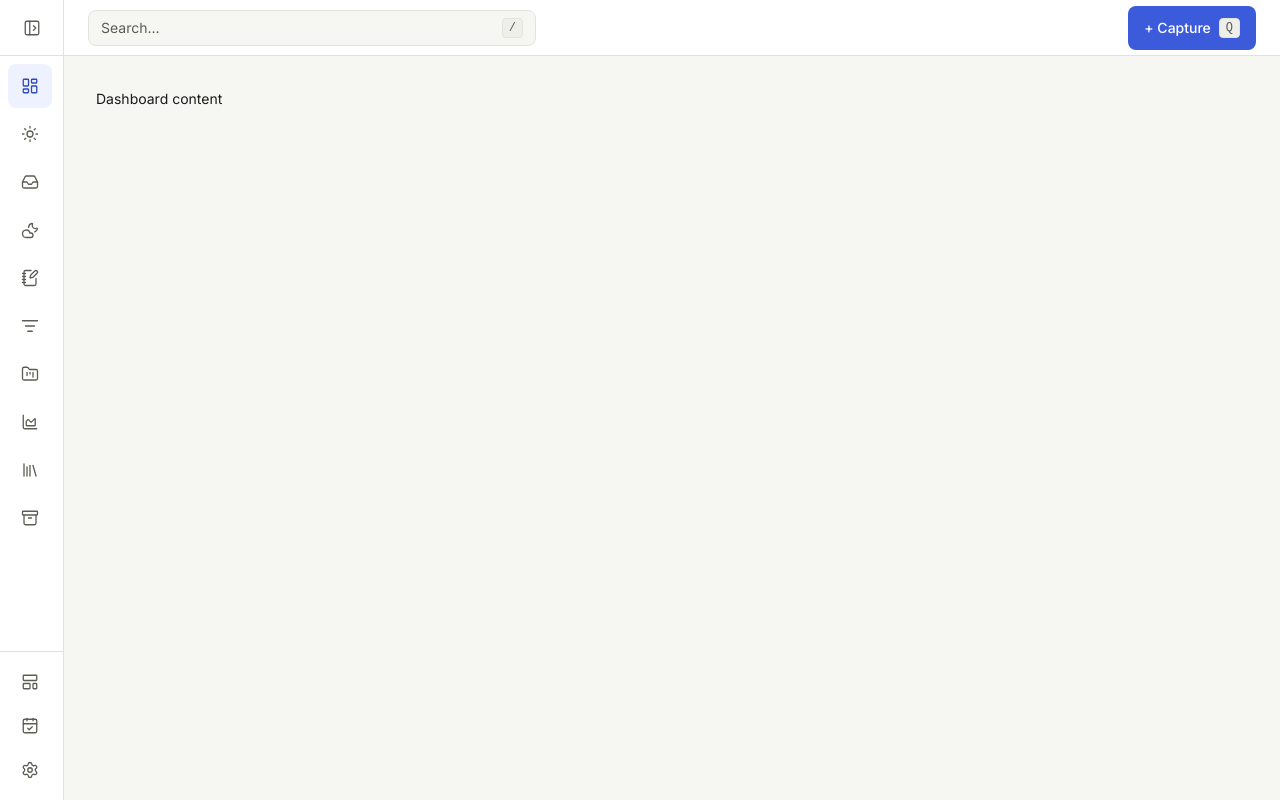
Test case: AppShell › sidebar toggle › narrow screen: icons only, the button opens a full sidebar that closes after a click
Expected: the element "Sidebar" does not show "Dashboard"
What coordinates should you click on to do the following:
click the button named "Expand sidebar"
I would click on:
 (32, 28)
Its box is [14, 10, 50, 46].
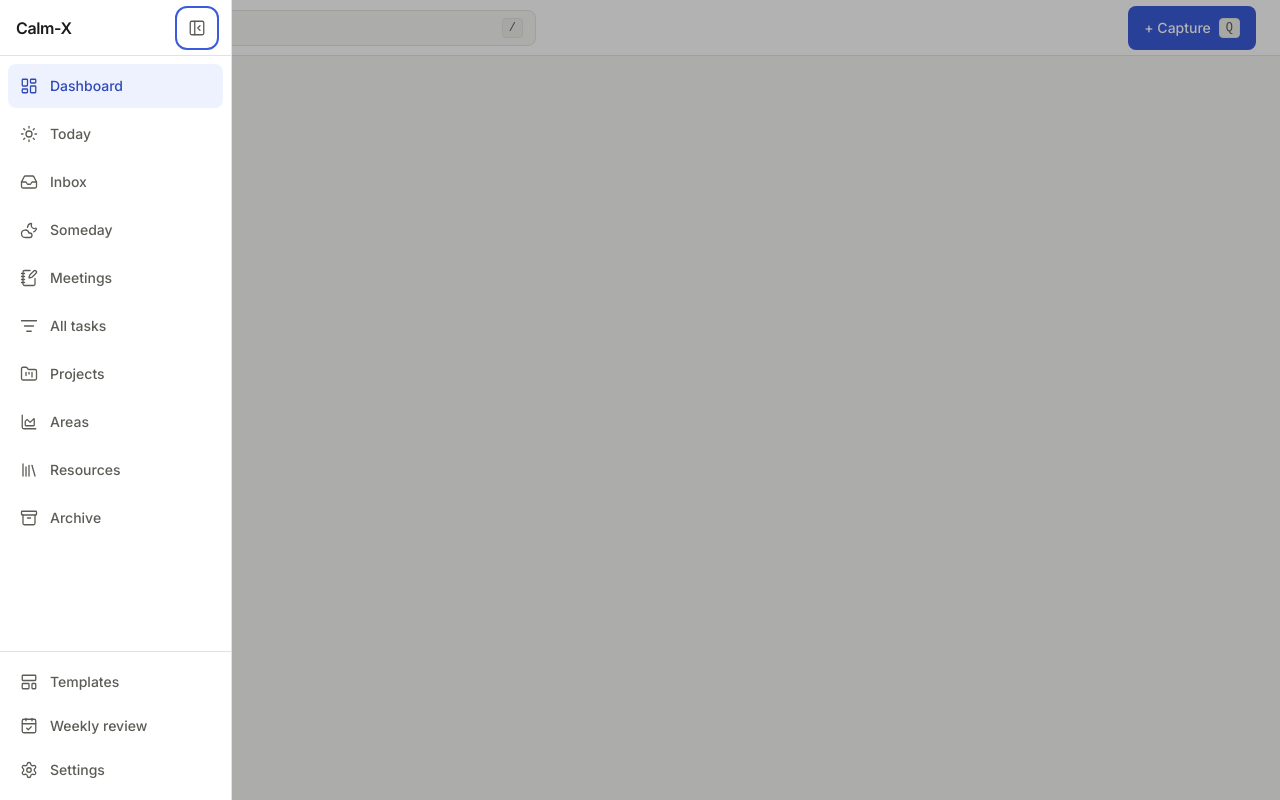
Expected: the element named "Sidebar" shows "Dashboard", [8, 64, 223, 108]
What coordinates should you click on to do the following:
click the link "Inbox"
I would click on:
 (53, 182)
Its box is [20, 173, 87, 191].
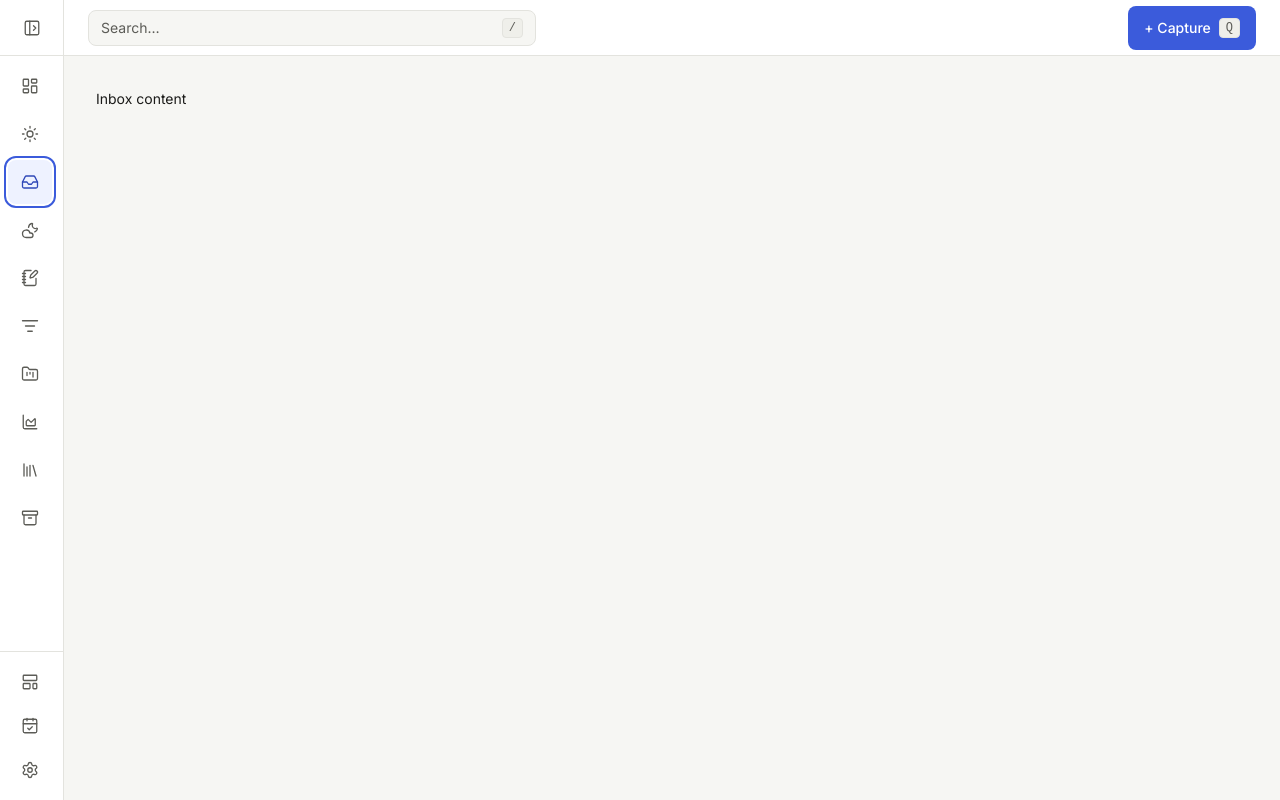
Expected: the text "Sidebar" no longer shows "Dashboard"
Expected: the text "Inbox content" is shown, [96, 90, 186, 107]
